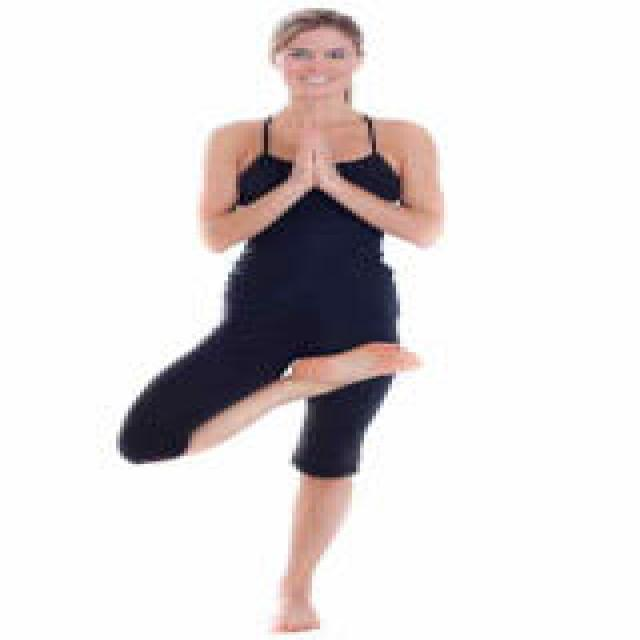yoga-pose tree: (101, 9, 446, 630)
